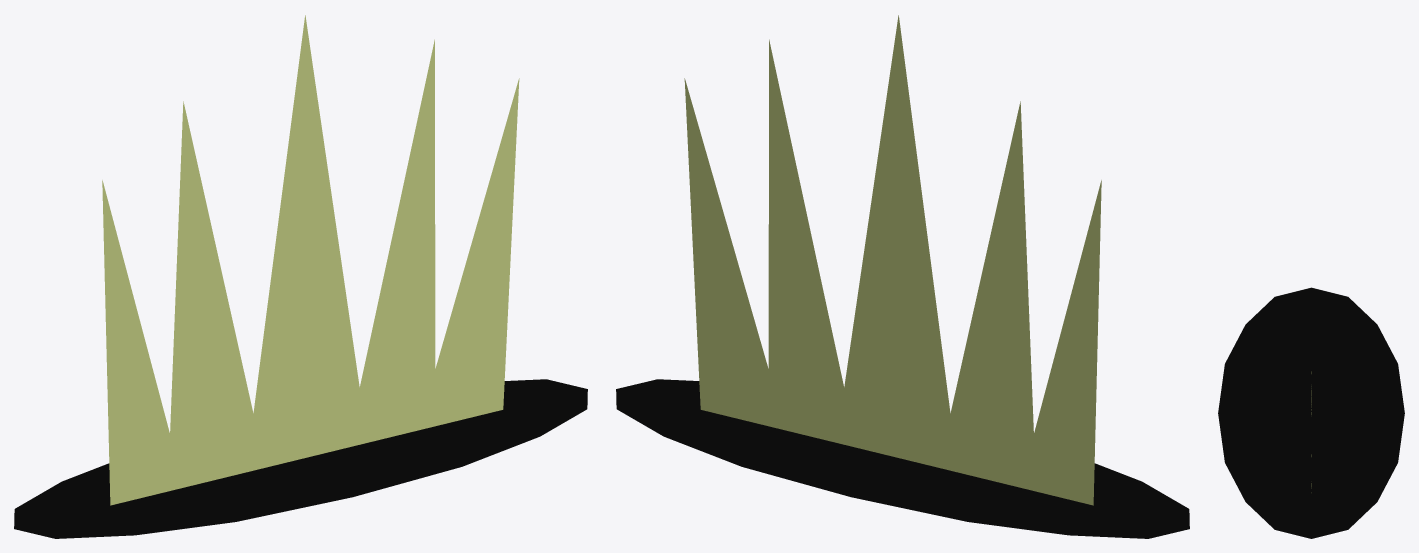
The model's file is Trawa4.fbx.
The picture shows the model from 3 angles, left to right: view 1: azimuth 30°, elevation 25°; view 2: azimuth 150°, elevation 25°; view 3: azimuth 270°, elevation 25°; orthographic projection. The views are drawn at different scales.
Parts seen in each view (by area): view 1: Plane.007; view 2: Plane.007; view 3: Plane.007.
Boxes of the visible parts, box(x1,y1,x2,y2) form: Plane.007: box(14, 15, 587, 538); Plane.007: box(616, 15, 1189, 538); Plane.007: box(1218, 287, 1404, 538).
Size of the model in its own units: 391 by 289 by 123.
